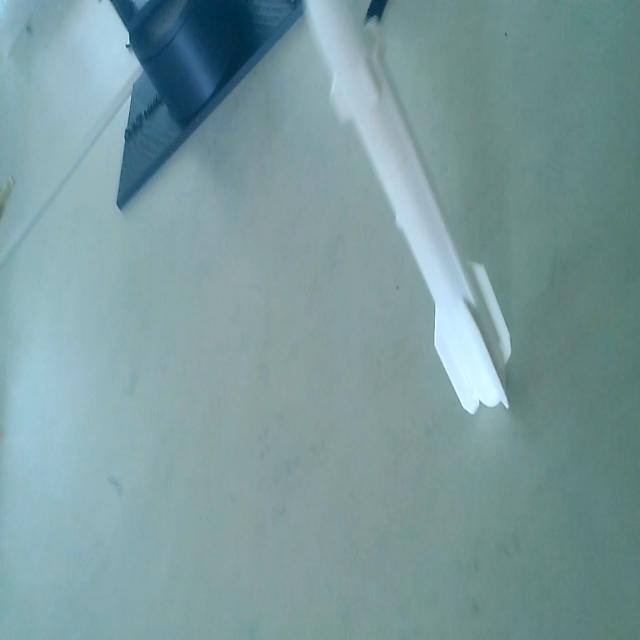Rocket: (303, 0, 515, 420)
